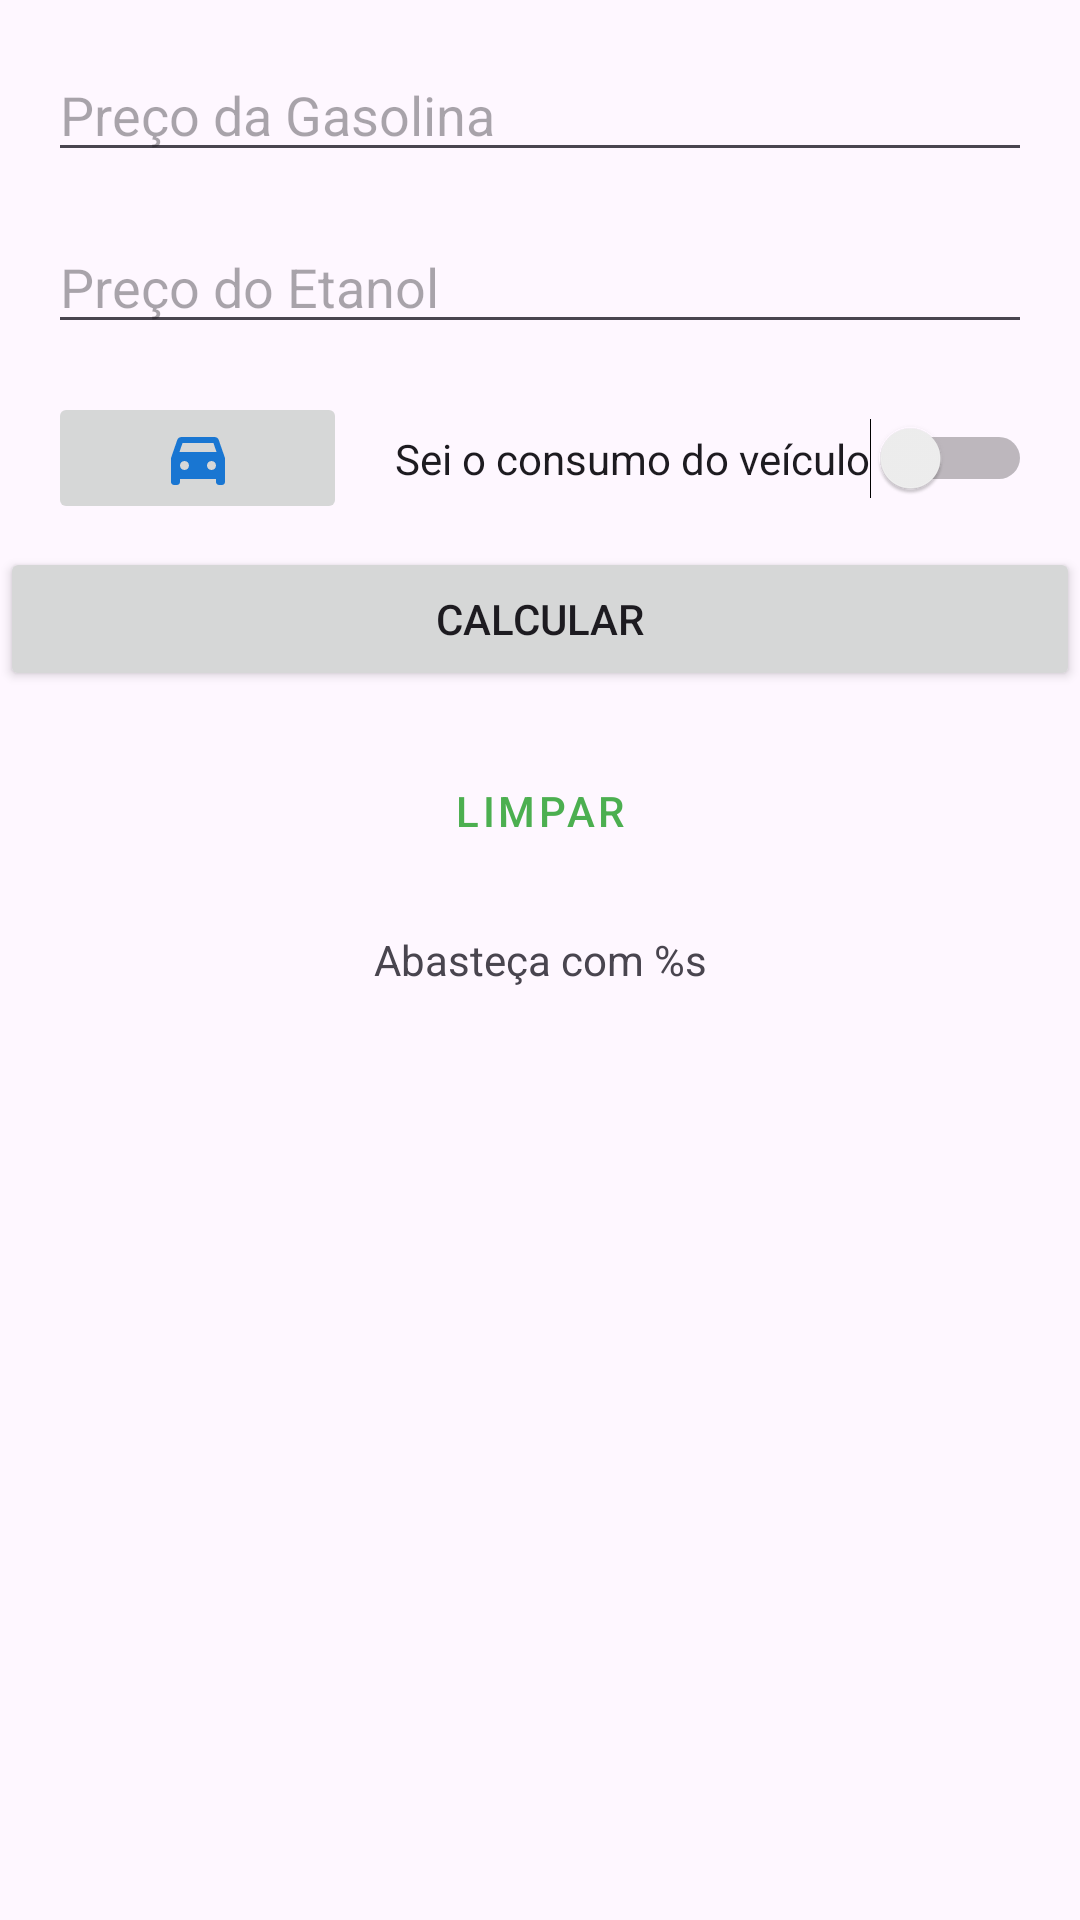

Locate icon controls on the screen. Image size 1080w x 1920h, boxes as bbox(x1, y1, x2, y2).
car: bbox(60, 410, 335, 506)
